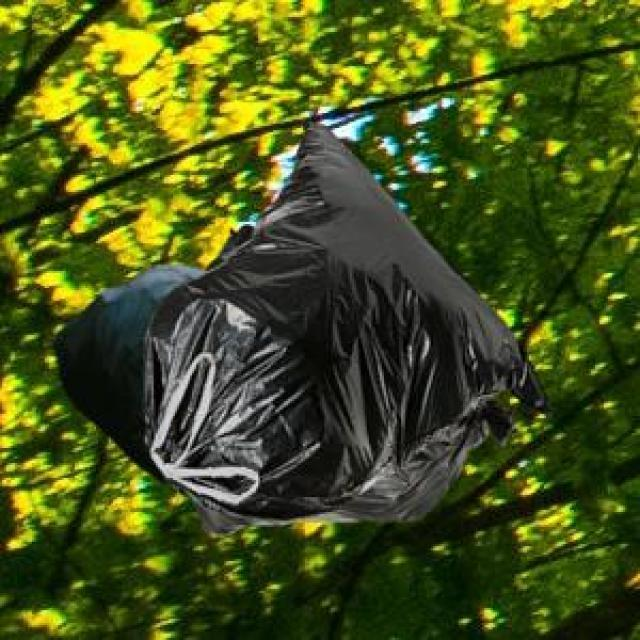waste: (146, 127, 538, 510)
